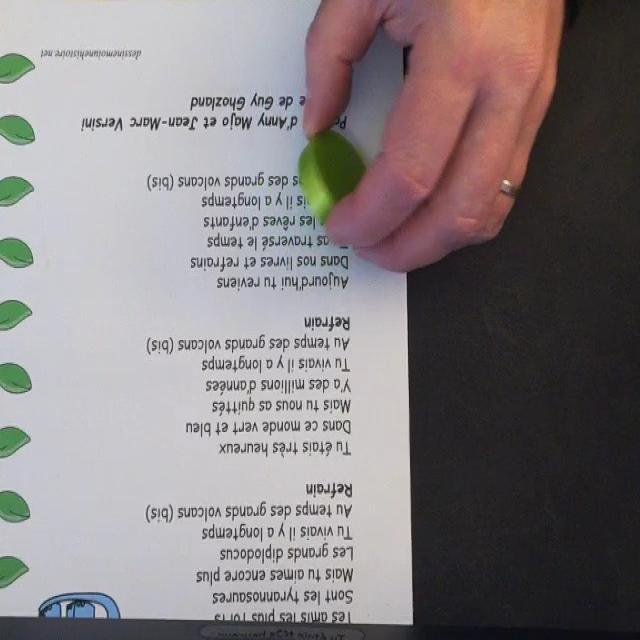round: (296, 127, 378, 235)
